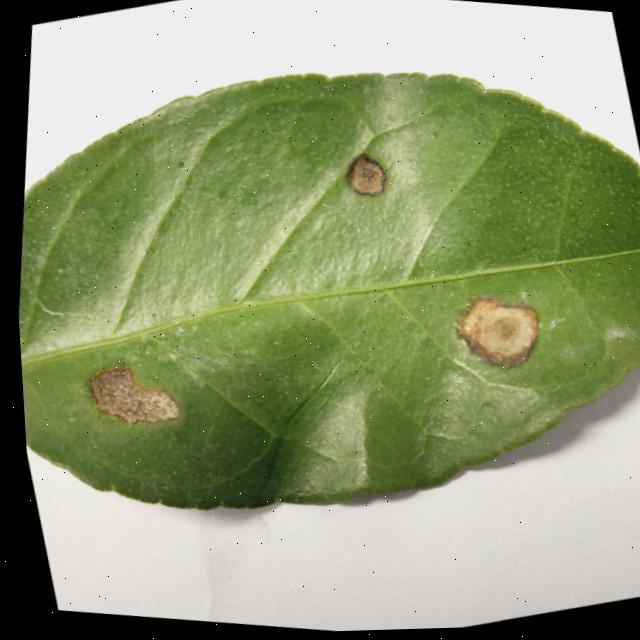antracnose: (18, 73, 640, 507), (456, 297, 536, 365), (89, 368, 178, 423), (346, 154, 385, 194)
